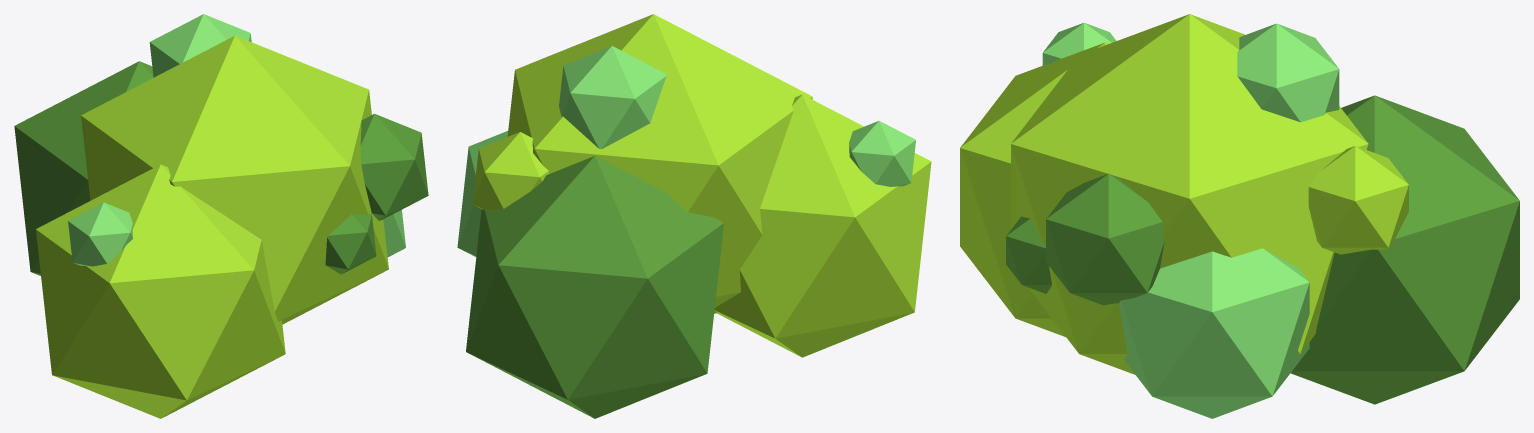
The model's file is bosje.fbx.
3 renders of one model, left to right at view 1: azimuth 30°, elevation 25°; view 2: azimuth 150°, elevation 25°; view 3: azimuth 270°, elevation 25°, orthographic. The views are drawn at different scales.
Visible parts, largest first — view 1: Icosphere.002, Icosphere.001, Icosphere.006; view 2: Icosphere.002, Icosphere.001, Icosphere.006; view 3: Icosphere.002, Icosphere.001, Icosphere.006.
Part boxes in pixels (left/top/right/bottom): Icosphere.002: left=36, top=35, right=388, bottom=418; Icosphere.001: left=14, top=61, right=428, bottom=275; Icosphere.006: left=68, top=14, right=405, bottom=266; Icosphere.002: left=472, top=14, right=931, bottom=357; Icosphere.001: left=466, top=156, right=723, bottom=418; Icosphere.006: left=457, top=46, right=915, bottom=256; Icosphere.002: left=960, top=14, right=1408, bottom=374; Icosphere.001: left=1006, top=95, right=1519, bottom=404; Icosphere.006: left=1042, top=22, right=1339, bottom=418.
Bounding box in the file's own units: 414 × 338 × 426.
